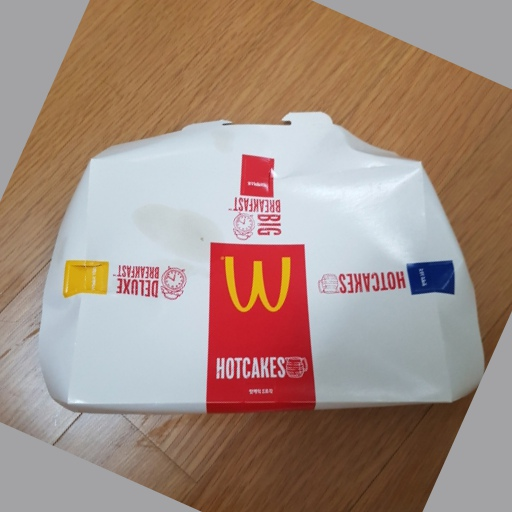Paper_0: (30, 105, 495, 420)
